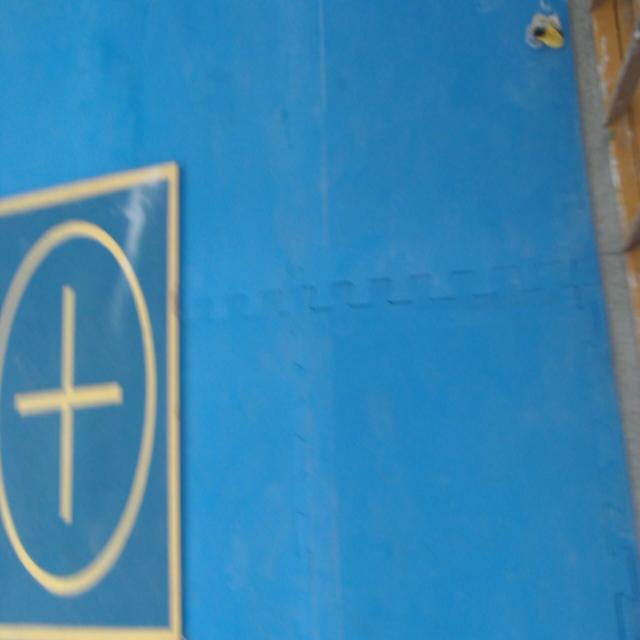base_pouso: (0, 161, 182, 639)
